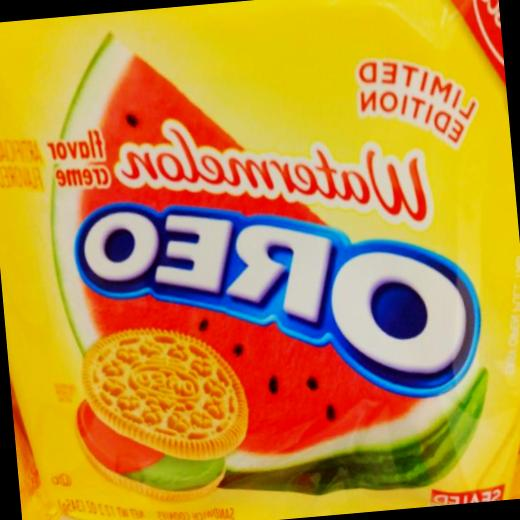Cherry: (32, 1, 496, 519)
